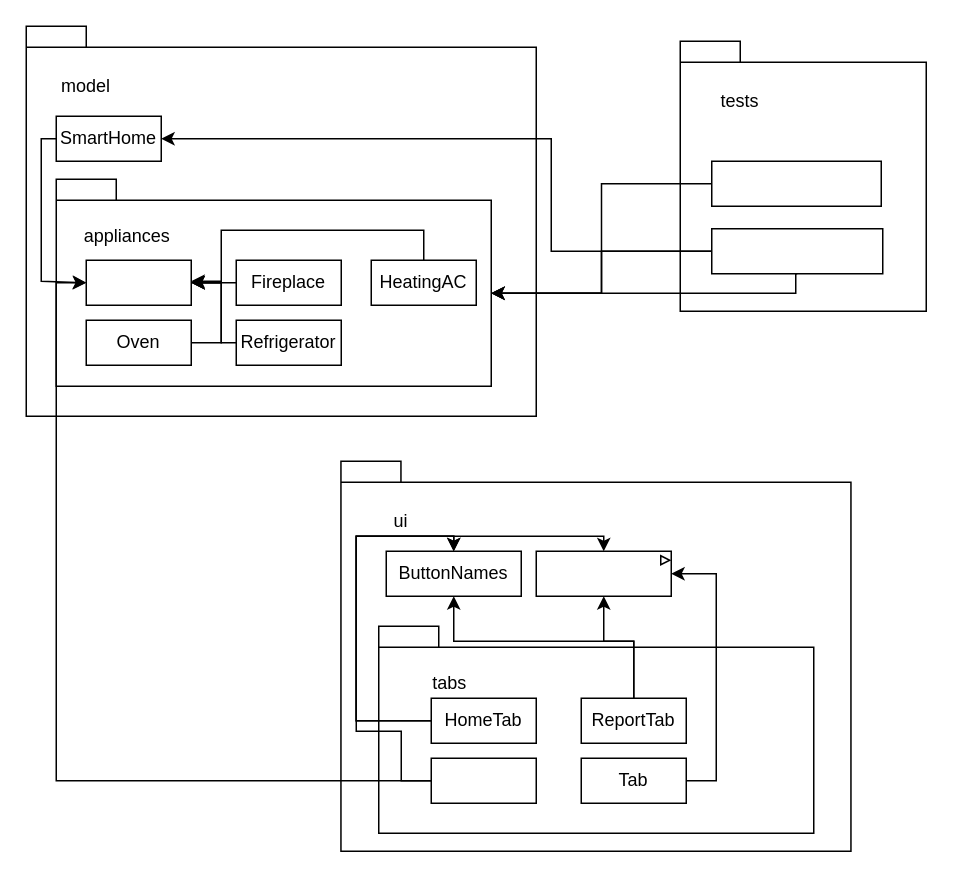
This 953x878 diagram has some shape labels left out. Here are the shapes that lost their labels. From the top down, the box of each, then its label:
(710, 160, 881, 206): ApplianceTest
(710, 227, 883, 274): SmartHomeTest
(85, 259, 191, 305): Appliance
(535, 550, 671, 596): SmartHomeUI
(430, 757, 536, 803): SettingsTab
